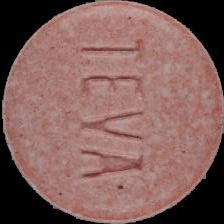0093-0771: (0, 0, 224, 224)
